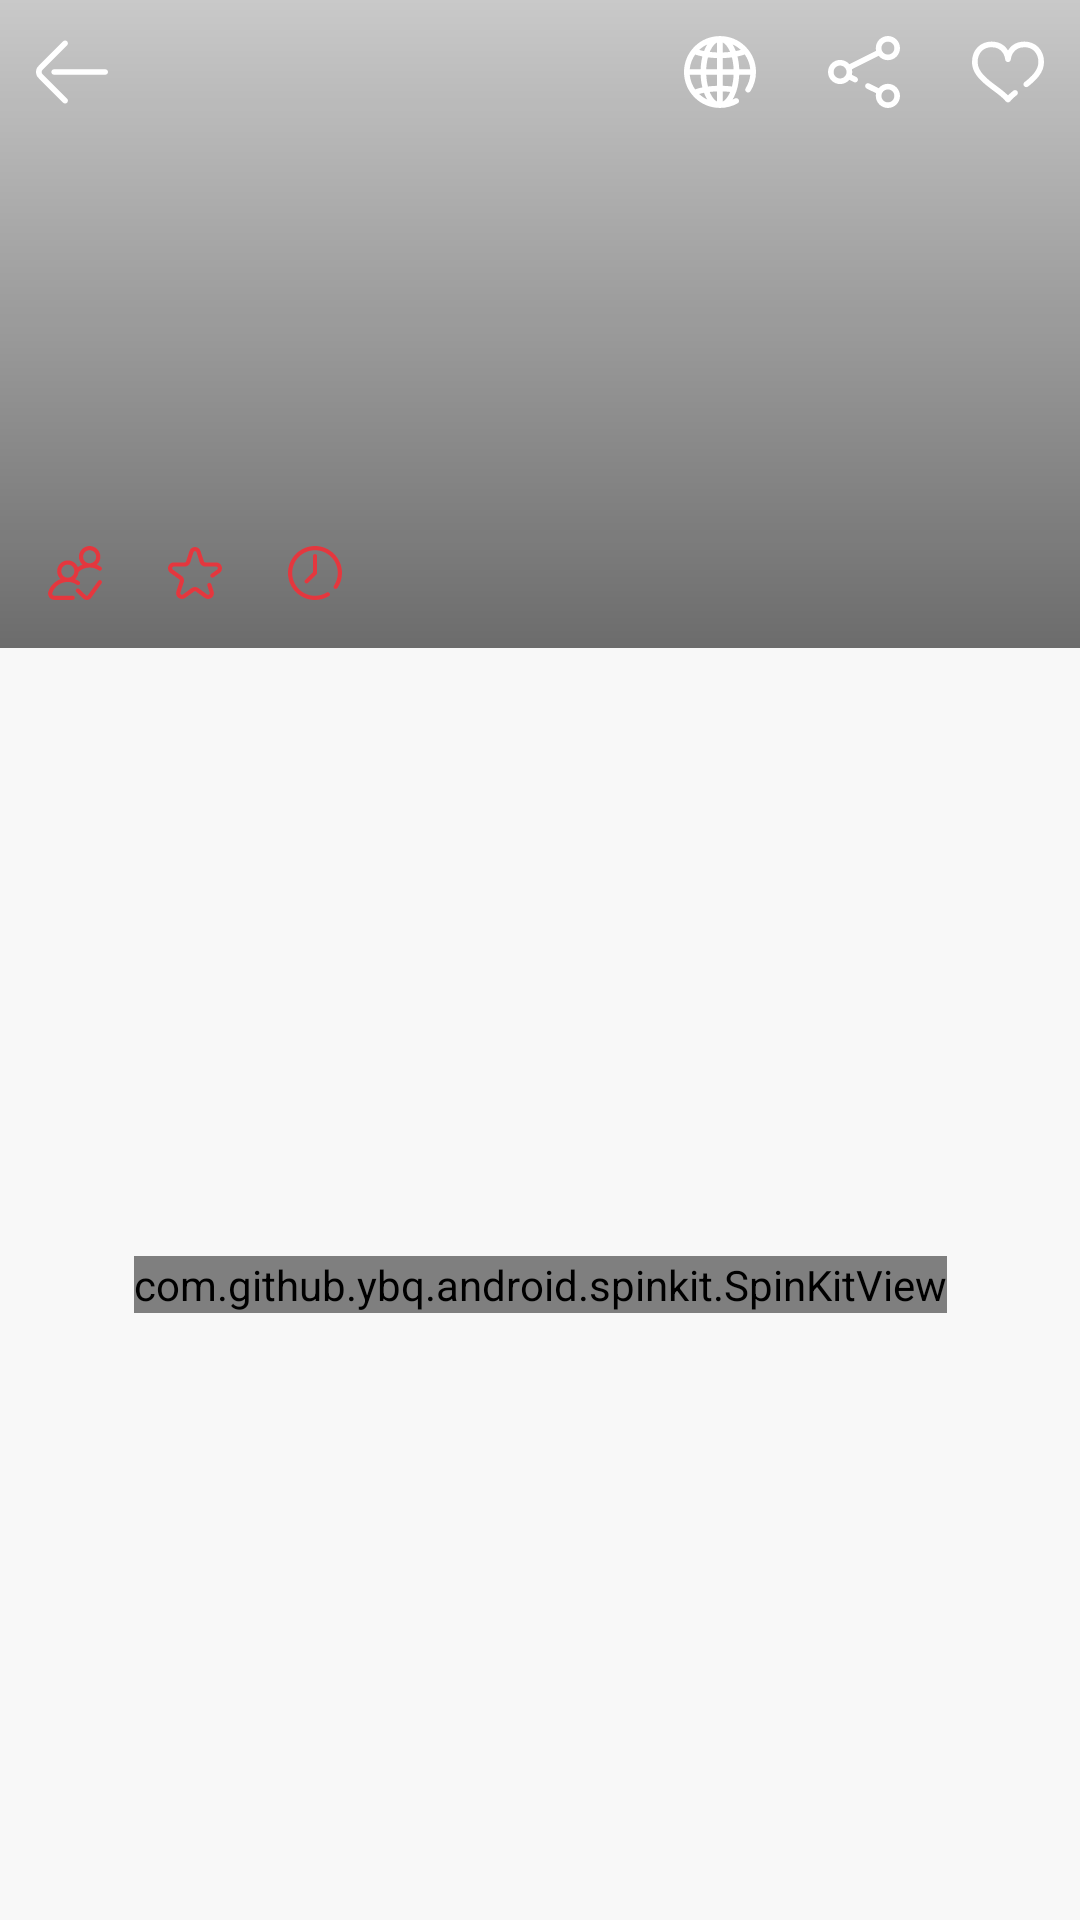

Named icons in this screenshot (1080w x 1920h) and their centers, (x,y):
back: (72,52)
heart: (1008,51)
people: (75,573)
share: (864,54)
star: (195,573)
time: (315,573)
web: (720,72)
